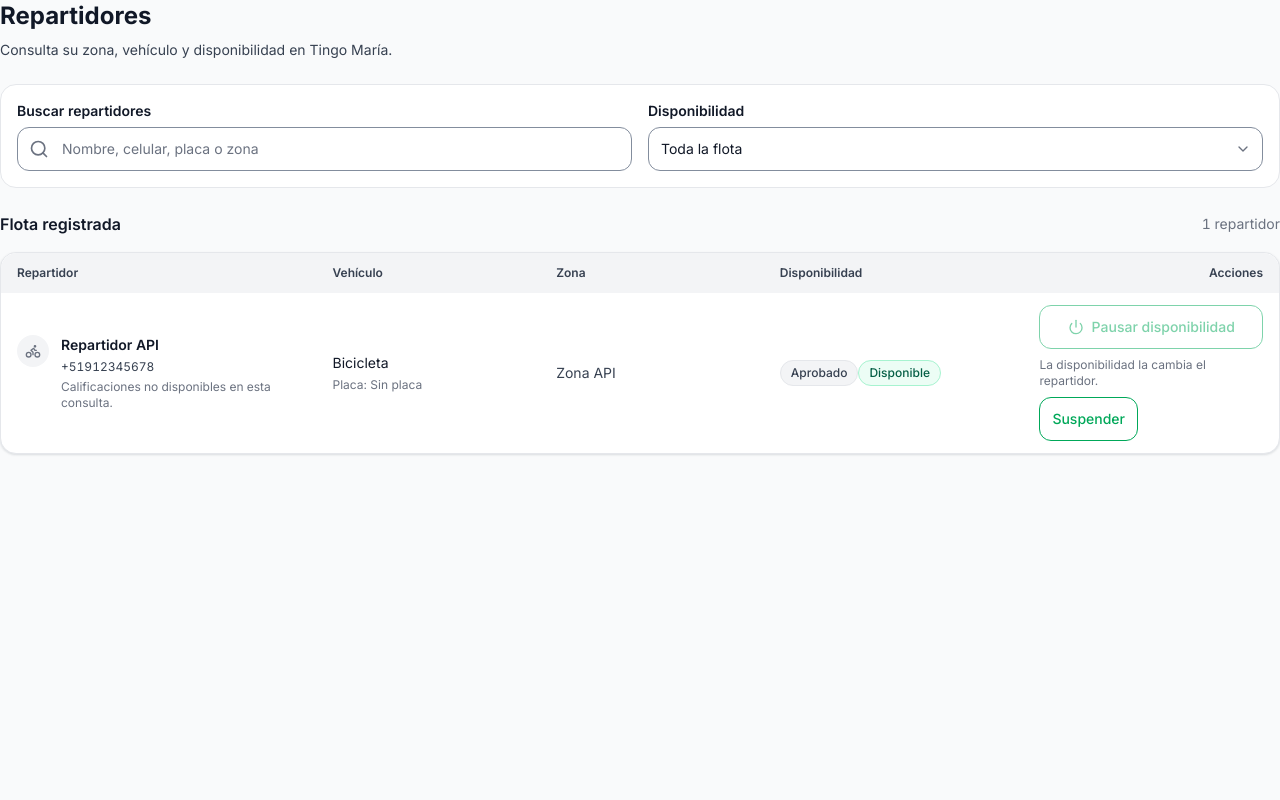
Test case: repartidor conserva disponibilidad de solo lectura y usa userId al suspender
expect the button "Pausar disponibilidad" is disabled: met, box [1039,305,1263,349]
Click the button "Suspender": (1089, 419) [1039,397,1138,441]
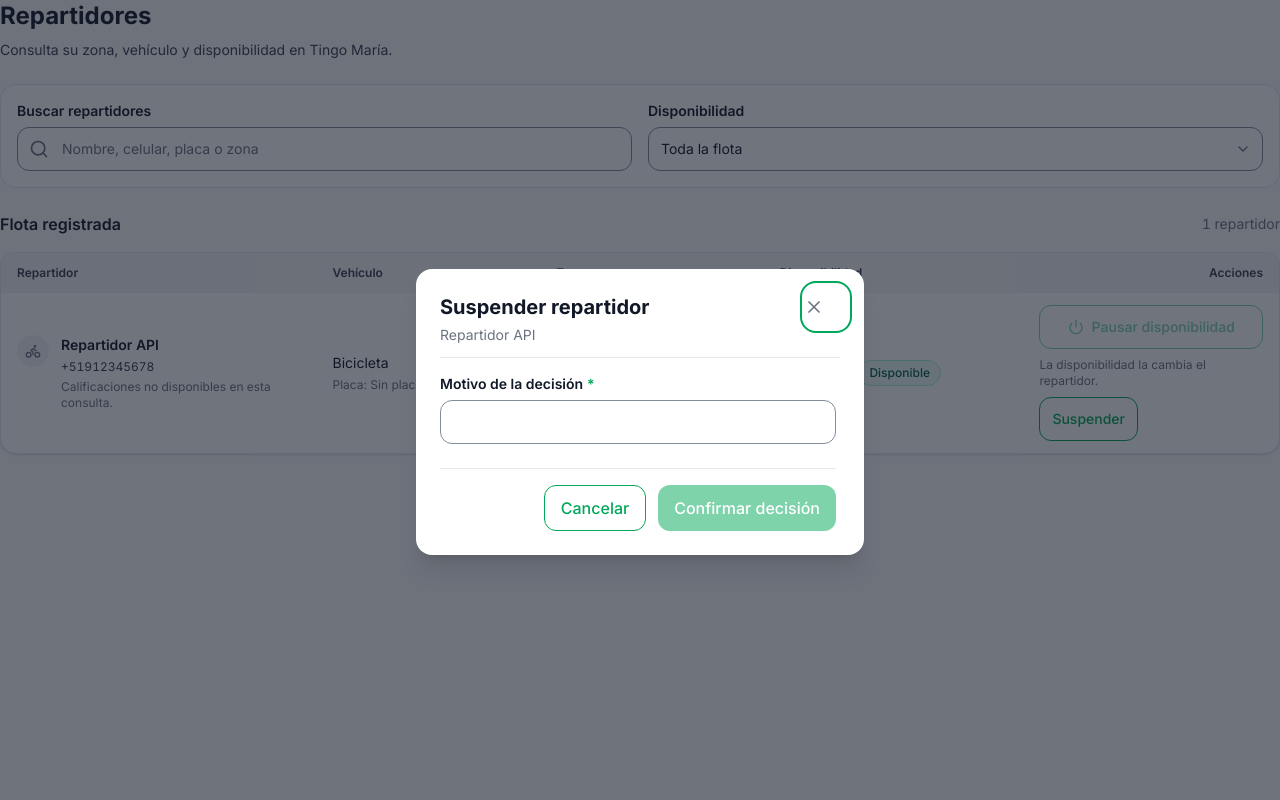
In the field labelled "Motivo de la decisión*": (638, 422) [440,400,836,444], type "Revisión"
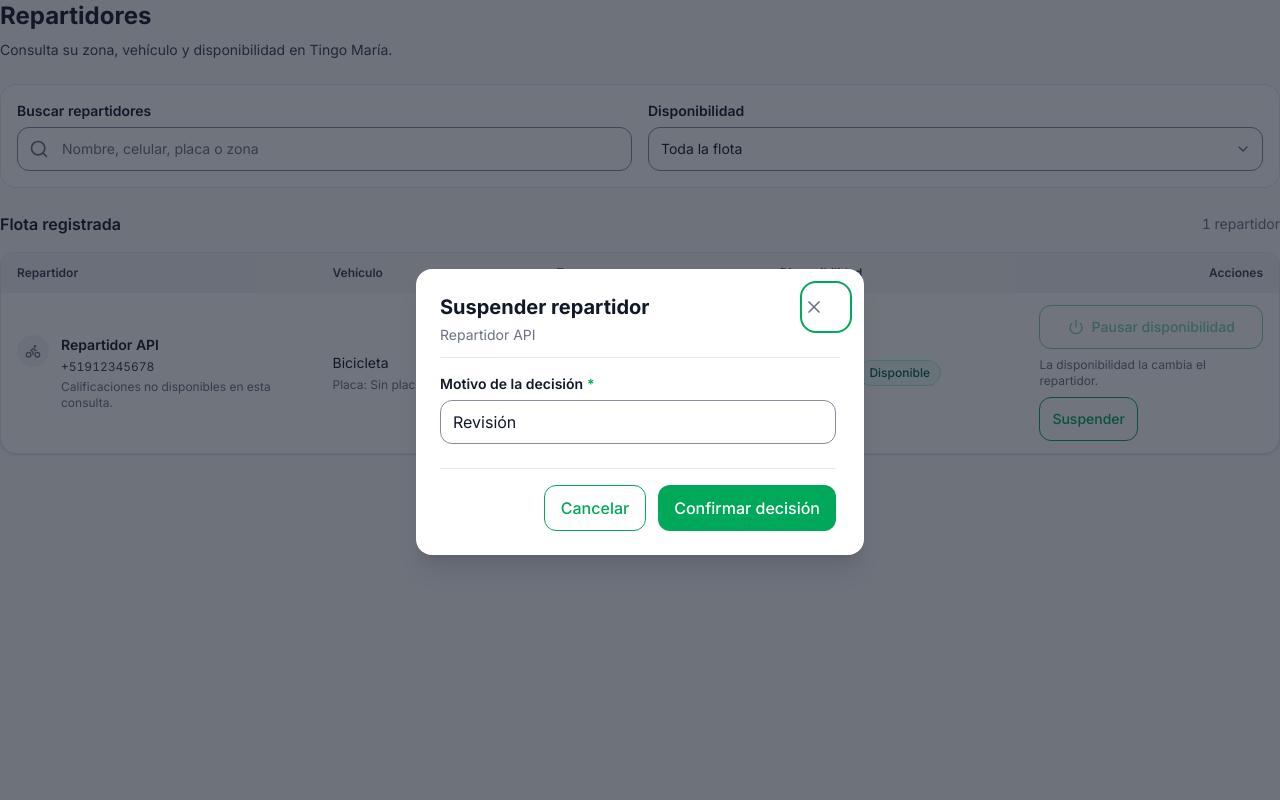
Click the button "Confirmar decisión": (747, 508) [658,485,836,531]
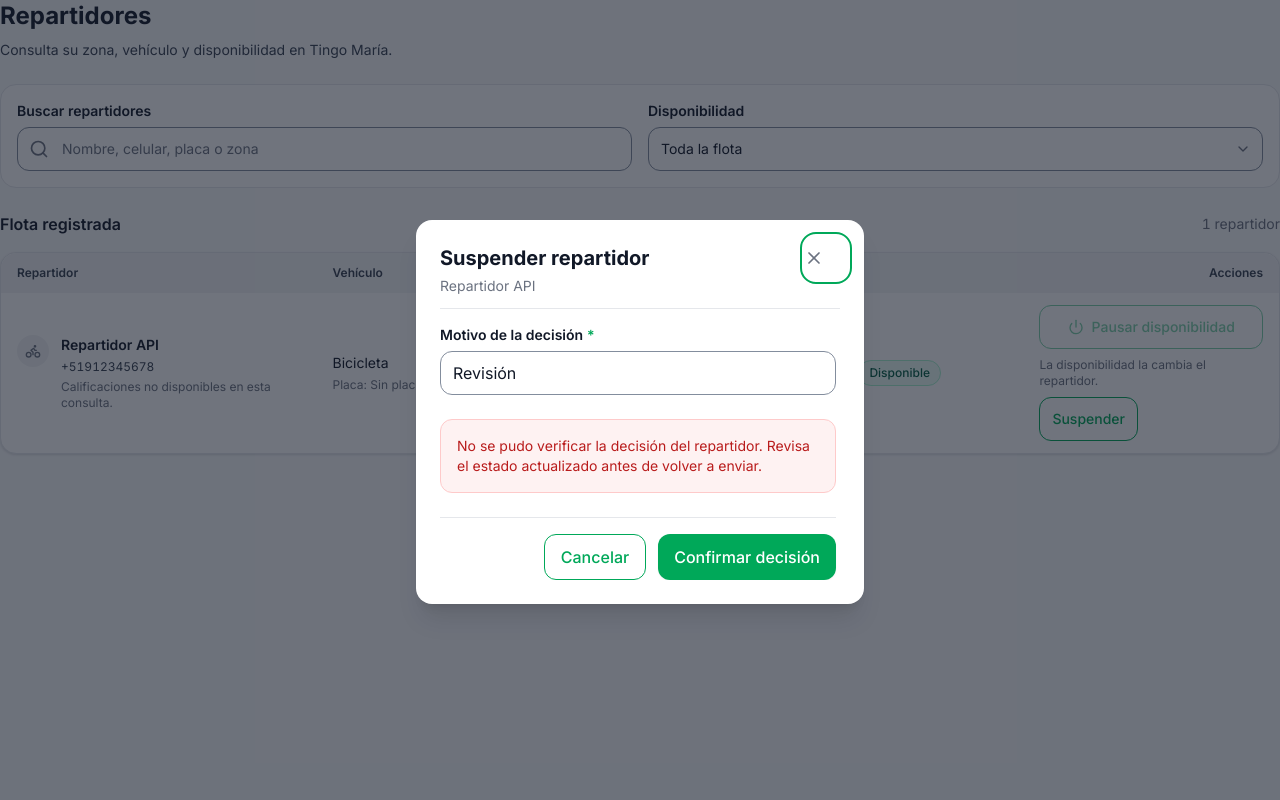
expect the message shows "No se pudo verificar": met, box [457,437,810,474]
